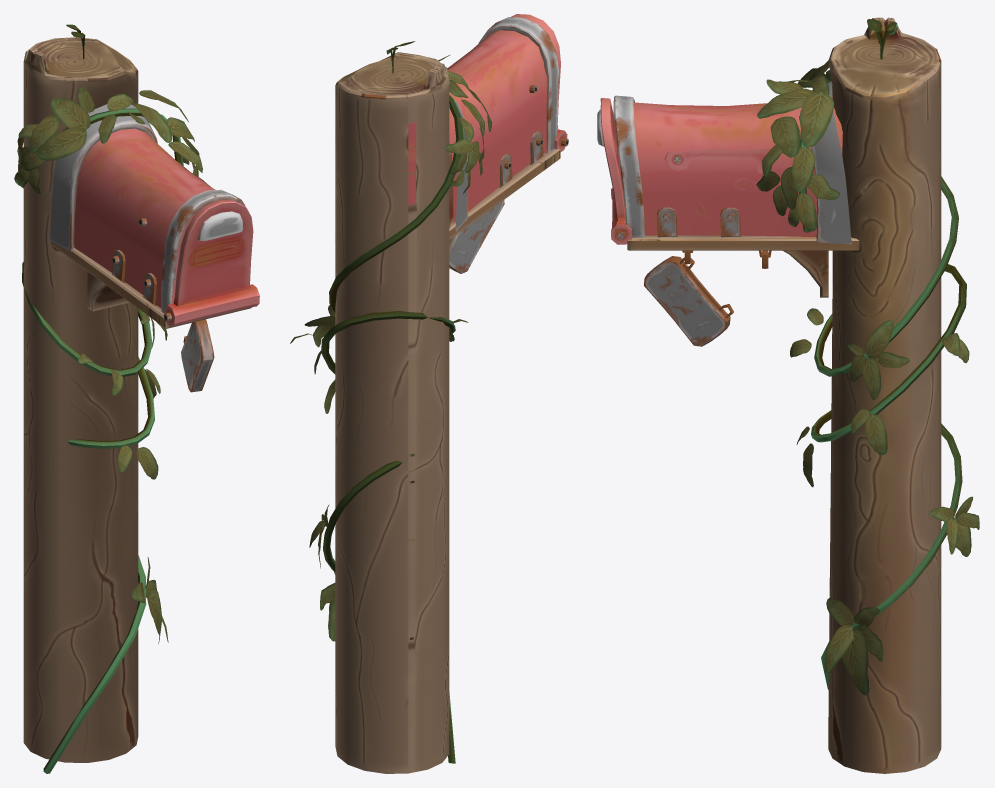
File: Mailbox.glb
The picture shows the model from 3 angles, left to right: view 1: azimuth 30°, elevation 25°; view 2: azimuth 150°, elevation 25°; view 3: azimuth 270°, elevation 25°; orthographic projection. The views are drawn at different scales.
Parts seen in each view (by area): view 1: Mail_wood_low; view 2: Mail_wood_low; view 3: Mail_wood_low.
Boxes of the visible parts, <box> form: Mail_wood_low: <box>14,24,259,773</box>; Mail_wood_low: <box>290,14,568,773</box>; Mail_wood_low: <box>597,17,979,773</box>.
Bounding box in the file's own units: 1.83 × 8.08 × 3.8.
Materials: 1 (1 with a texture image).
